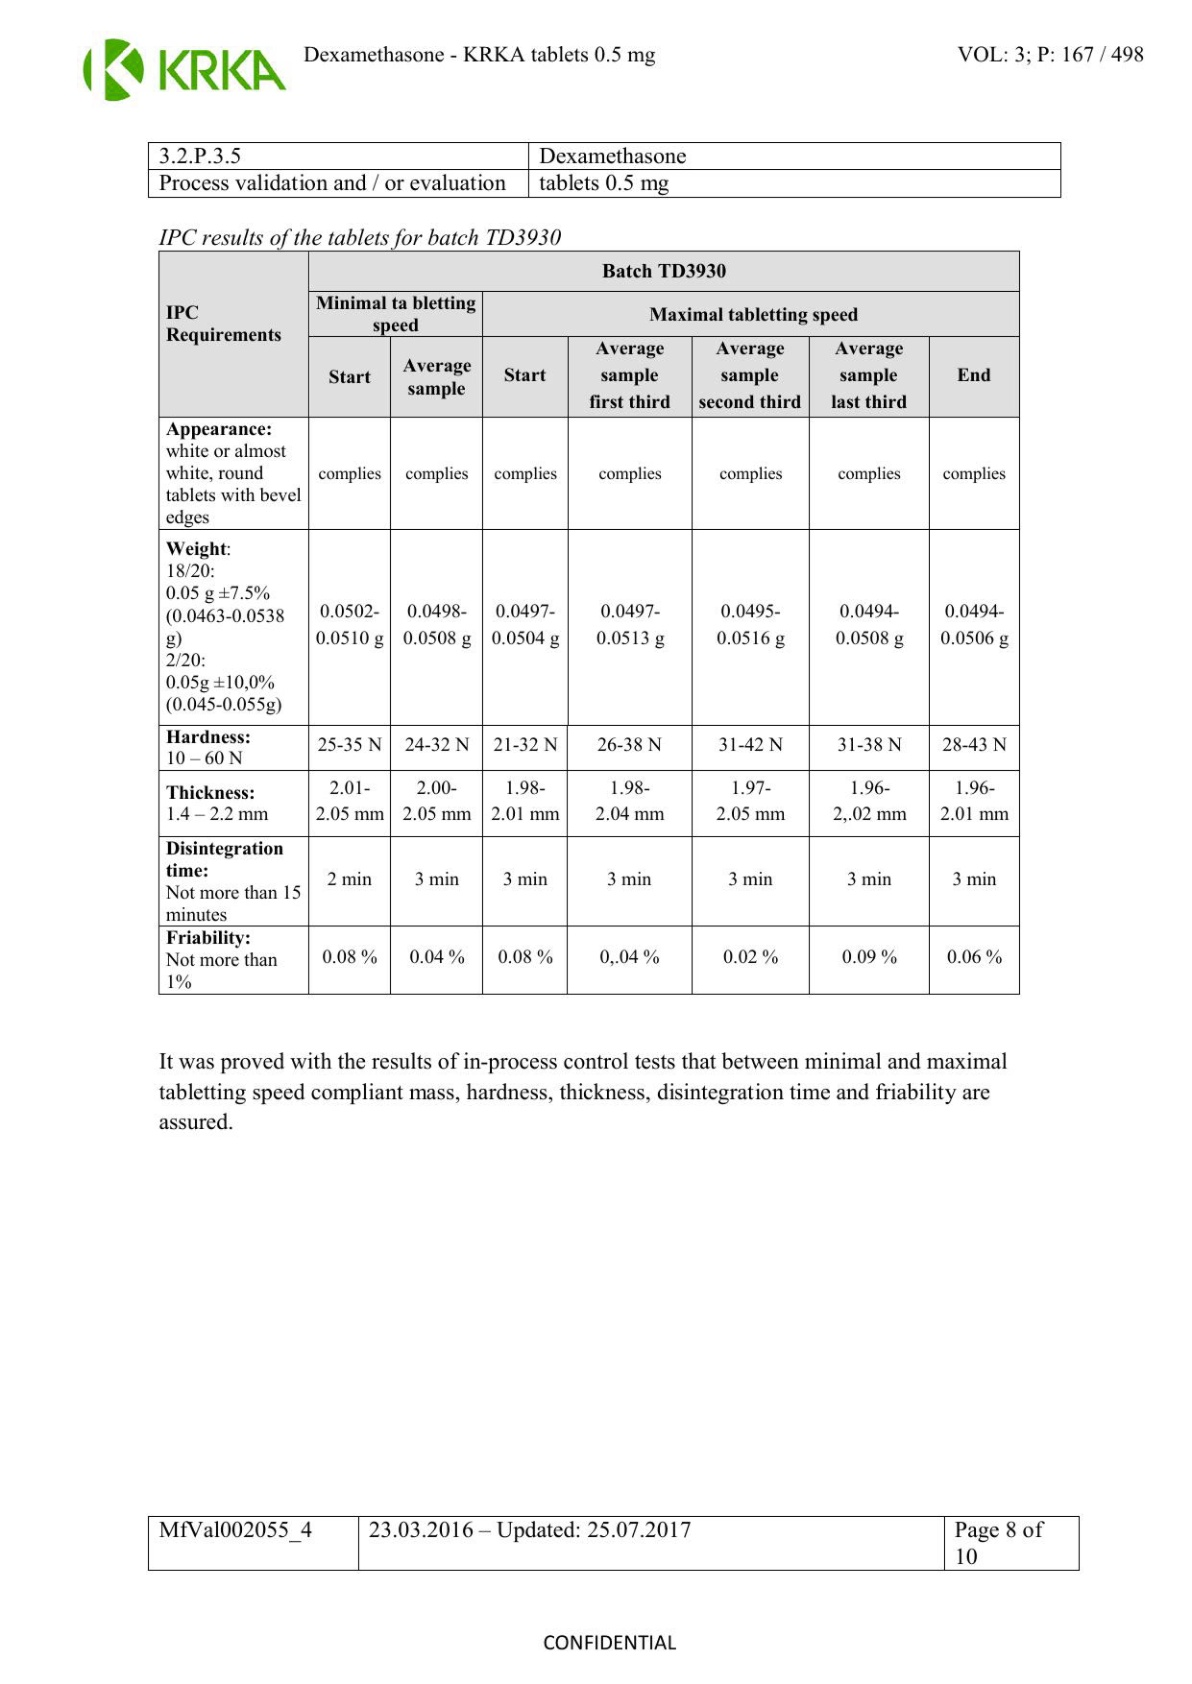full_lined: (147, 142, 1062, 199), (148, 1516, 1080, 1571)
merged_cells: (157, 250, 1020, 995)
